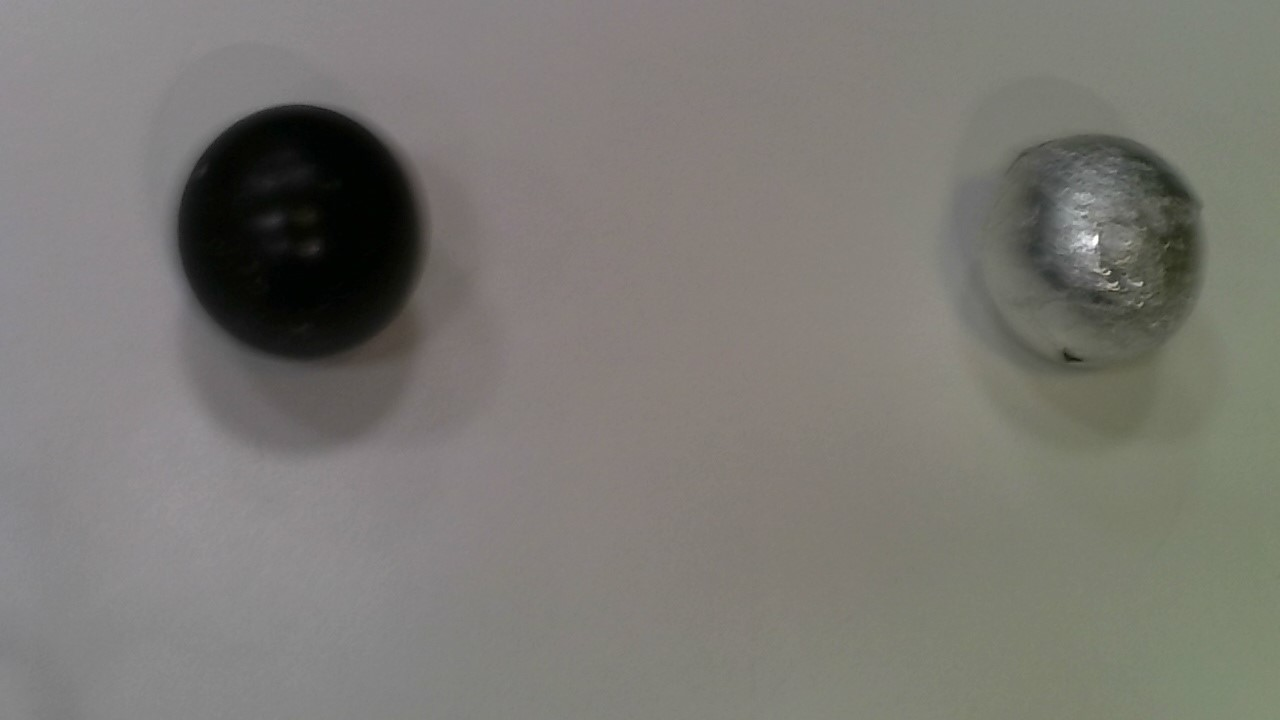black_ball: (172, 100, 442, 372)
silver_ball: (959, 131, 1223, 382)
